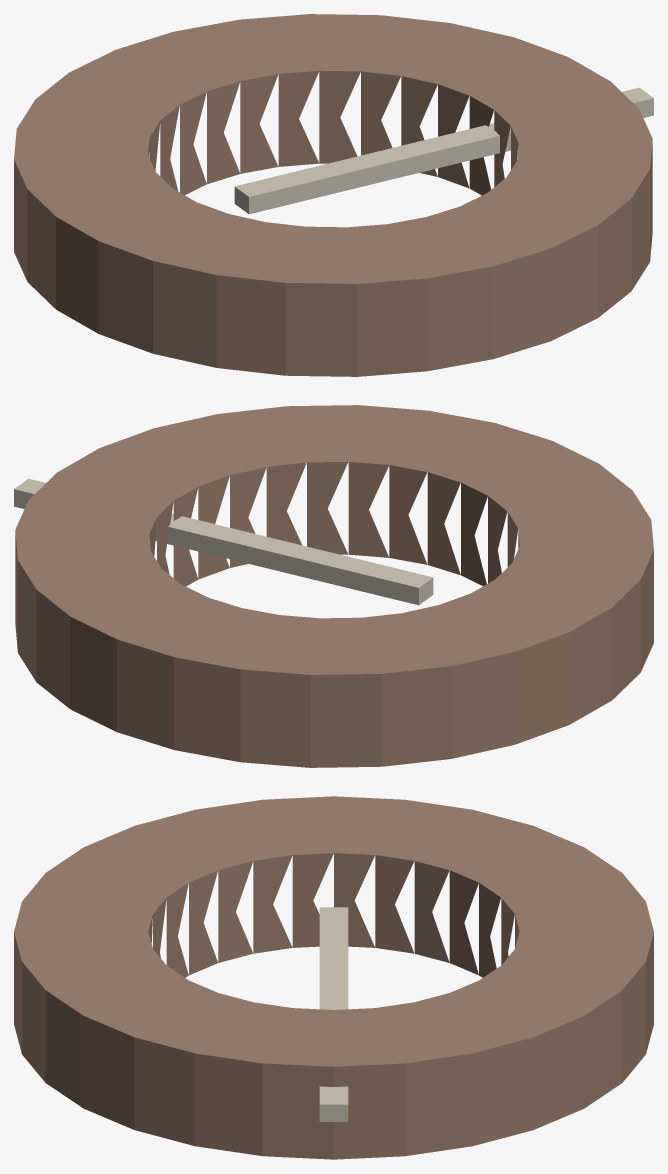
The model's file is render.glb.
3 renders of one model, top to bottom at view 1: azimuth 30°, elevation 25°; view 2: azimuth 150°, elevation 25°; view 3: azimuth 270°, elevation 25°, orthographic.
Visible parts, largest first — view 1: CavedShaftRim, FallenBoreMast; view 2: CavedShaftRim, FallenBoreMast; view 3: CavedShaftRim, FallenBoreMast.
Part boxes in pixels (box(x1,y1,x2,y2)): CavedShaftRim: box(14, 14, 652, 376); FallenBoreMast: box(234, 87, 653, 214); CavedShaftRim: box(15, 405, 653, 767); FallenBoreMast: box(14, 478, 433, 605); CavedShaftRim: box(14, 796, 653, 1159); FallenBoreMast: box(319, 907, 348, 1121).
Bounding box in the file's own units: 2.13 × 0.3201 × 2.
